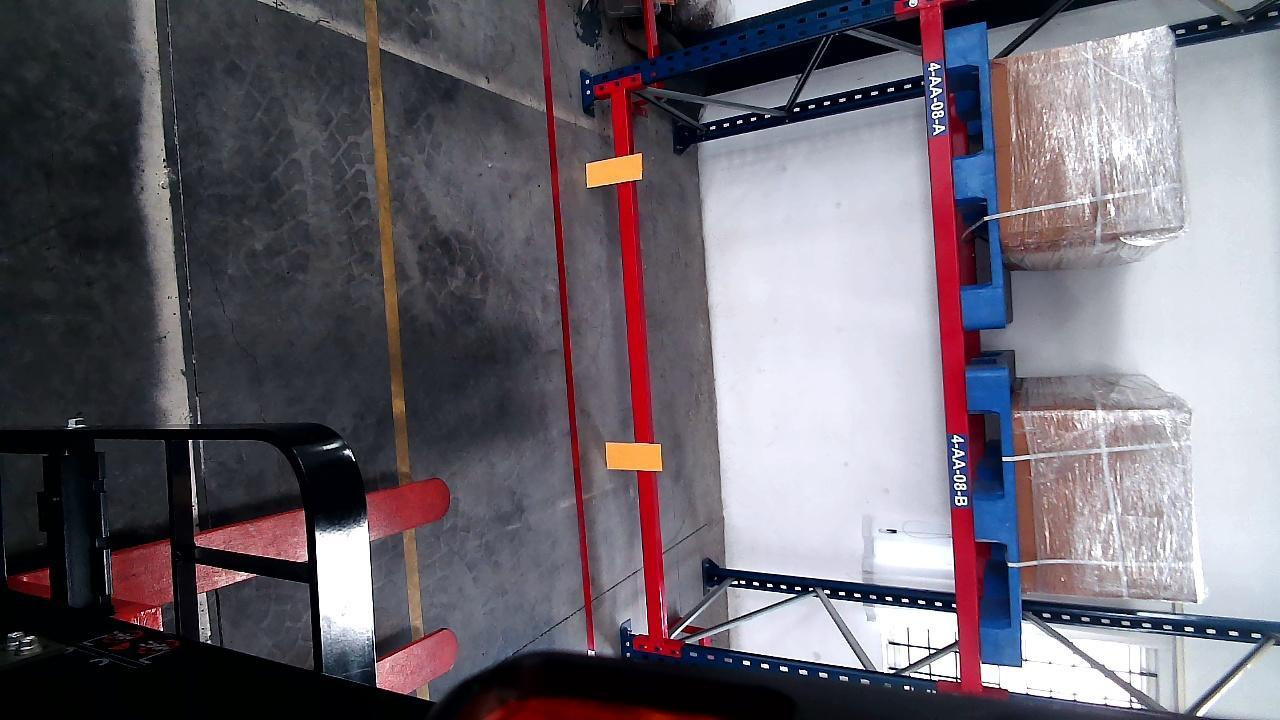red_line: (538, 4, 598, 653)
yellow_line: (365, 0, 423, 639)
